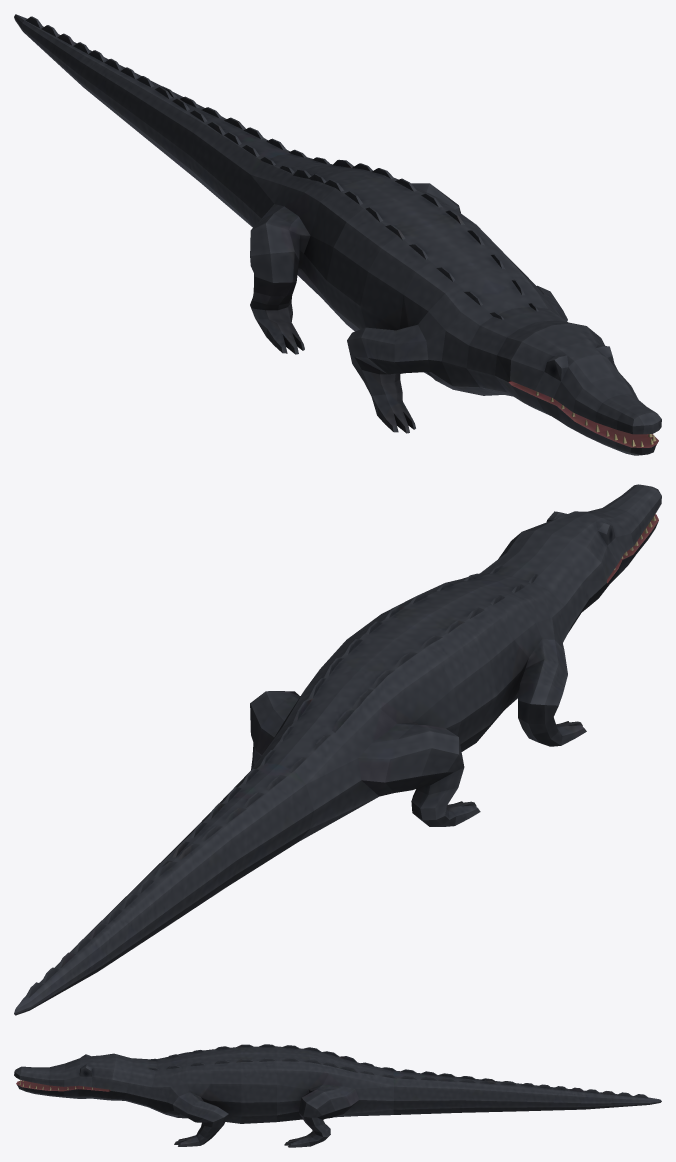
Rendered from jakare.glb.
3 renders of one model, top to bottom at view 1: azimuth 30°, elevation 25°; view 2: azimuth 150°, elevation 25°; view 3: azimuth 270°, elevation 25°, orthographic. The views are drawn at different scales.
Parts seen in each view (by area): view 1: BlackCaiman_mesh; view 2: BlackCaiman_mesh; view 3: BlackCaiman_mesh.
Part boxes in pixels (x1,y1,x2,y2): BlackCaiman_mesh: (14, 14, 661, 455); BlackCaiman_mesh: (14, 484, 661, 1015); BlackCaiman_mesh: (14, 1044, 661, 1147).
Size of the model in its own units: 3.4 by 2.19 by 17.97.
1 material, 1 textured.
